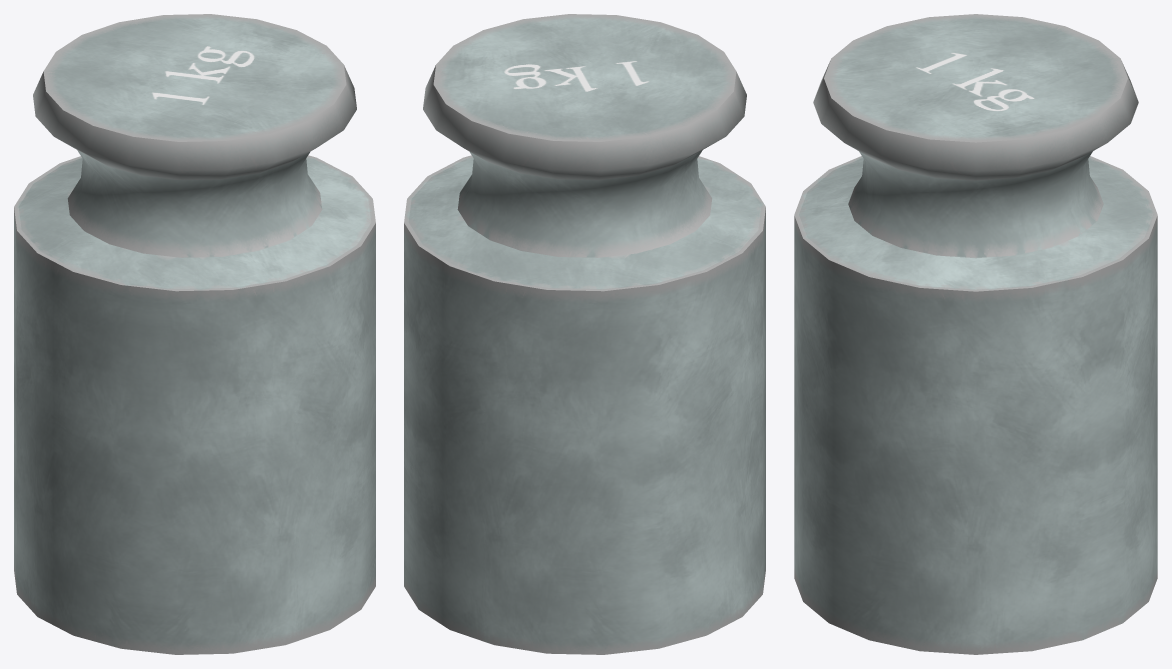
File: weight_1kg_white.fbx
3 views of the same model, side by side, from view 1: azimuth 30°, elevation 25°; view 2: azimuth 150°, elevation 25°; view 3: azimuth 270°, elevation 25° (orthographic).
Parts seen in each view (by area): view 1: pCylinder1; view 2: pCylinder1; view 3: pCylinder1.
Part boxes in pixels (<box>): pCylinder1: <box>14,14,375,654</box>; pCylinder1: <box>404,14,765,654</box>; pCylinder1: <box>794,14,1157,654</box>.
Size of the model in its own units: 2.27 by 3.45 by 2.27.
